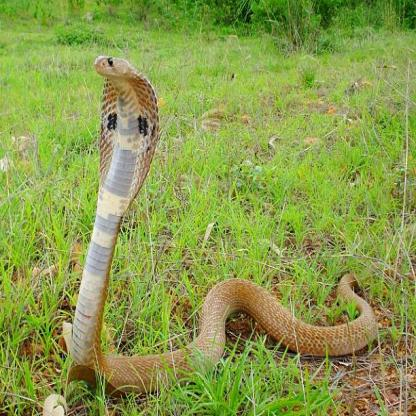Snake: (70, 50, 383, 384)
